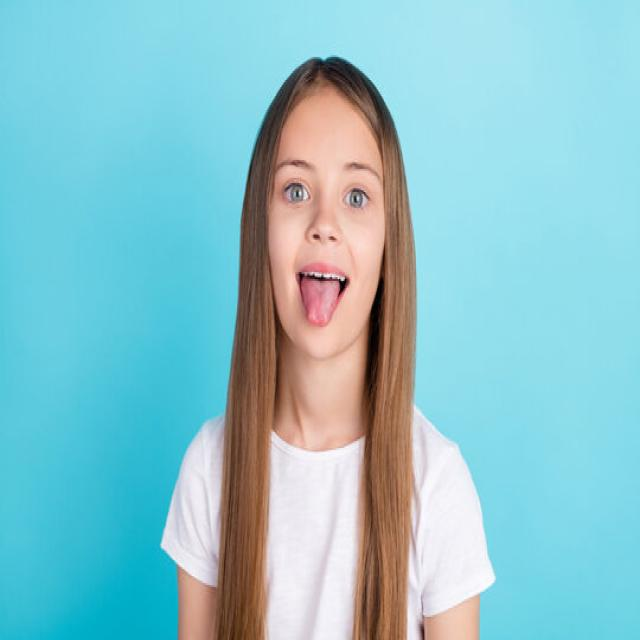tongue: (296, 274, 348, 328)
